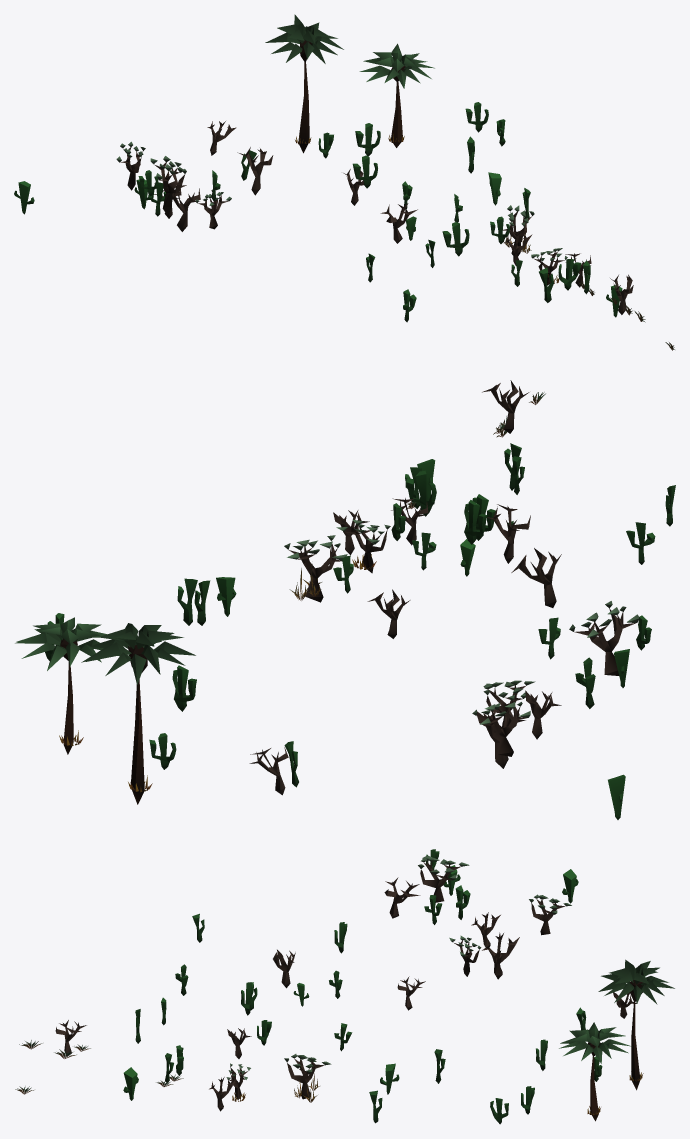
Rendered from c_trees_desert_bot_mid.fbx.
3 views of the same model, one above another, from view 1: azimuth 30°, elevation 25°; view 2: azimuth 150°, elevation 25°; view 3: azimuth 270°, elevation 25° (orthographic). The views are drawn at different scales.
Visible parts, largest first — view 1: c_trees_desert_bot_mid; view 2: c_trees_desert_bot_mid; view 3: c_trees_desert_bot_mid.
Boxes of the visible parts, x1,y1,x2,y2 form: c_trees_desert_bot_mid: (14, 14, 674, 350); c_trees_desert_bot_mid: (15, 380, 675, 819); c_trees_desert_bot_mid: (15, 849, 674, 1124).
Size of the model in its own units: 43.36 by 12.33 by 56.9.
